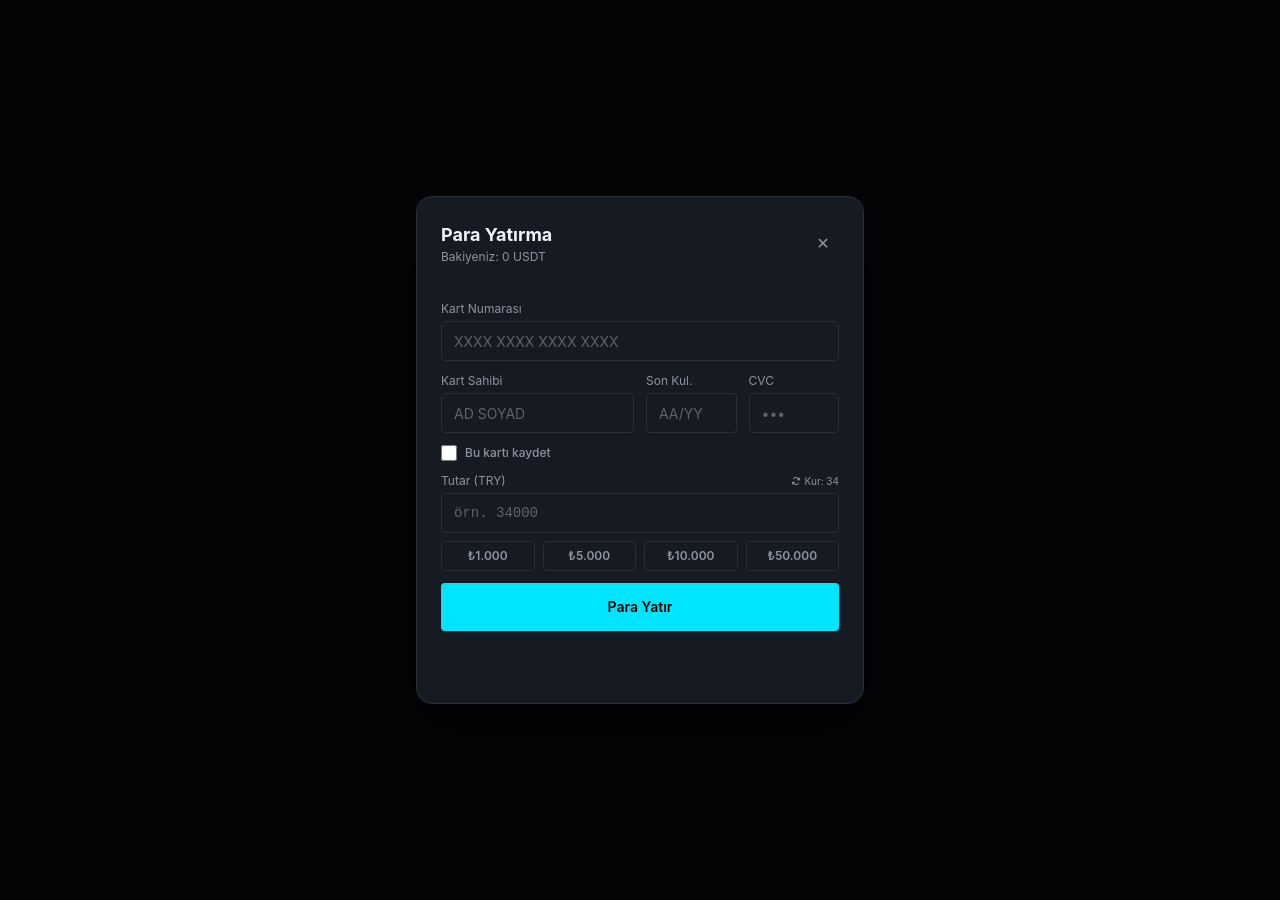
Test: DepositModal › honors preset TRY amounts
The width and height of the screenshot is (1280, 900).
Click the button "₺5.000" at {"x": 589, "y": 556}, box 542,541 -> 636,571
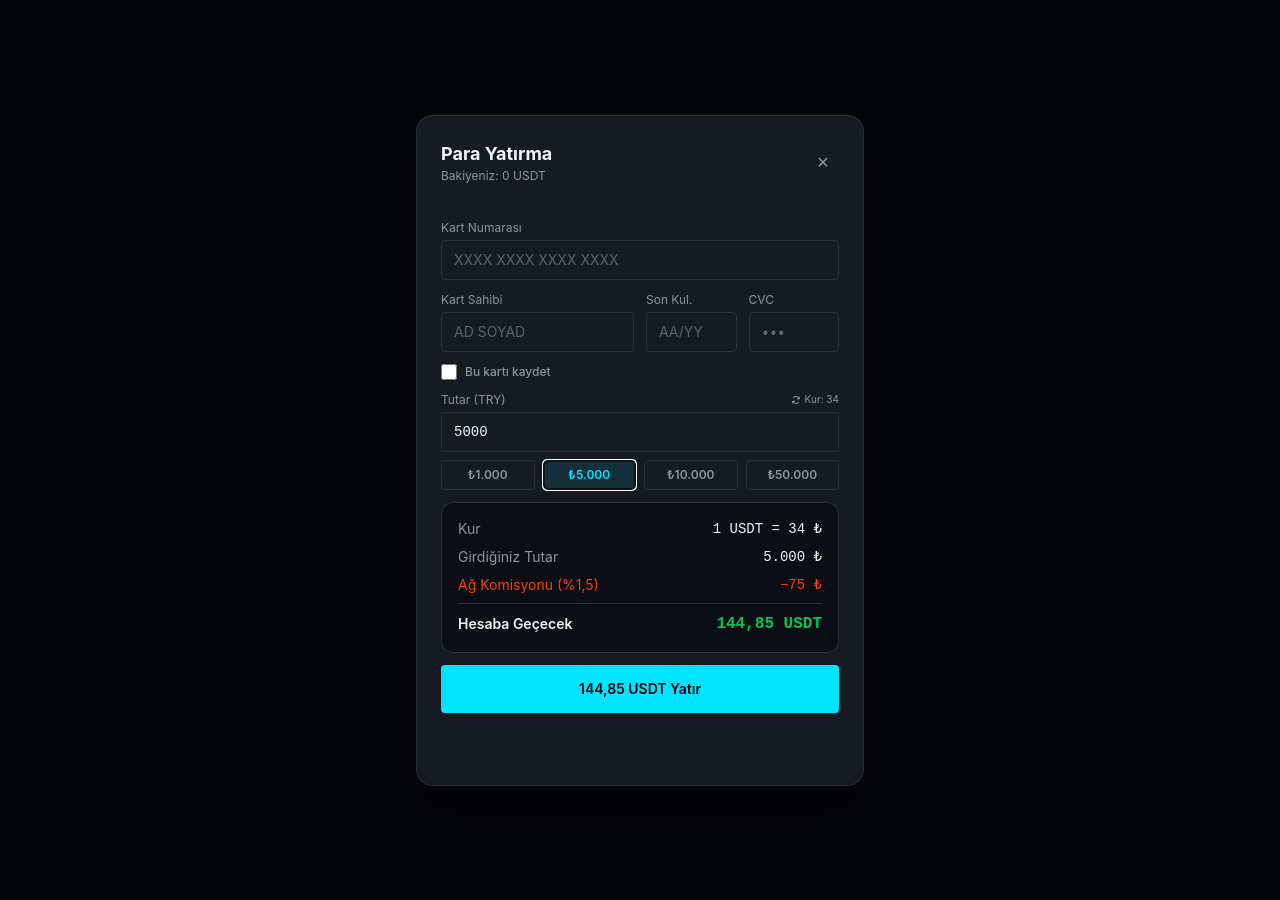
Type "4242424242424242" into the field with placeholder "XXXX XXXX XXXX XXXX" at {"x": 640, "y": 260}, box 441,240 -> 839,280
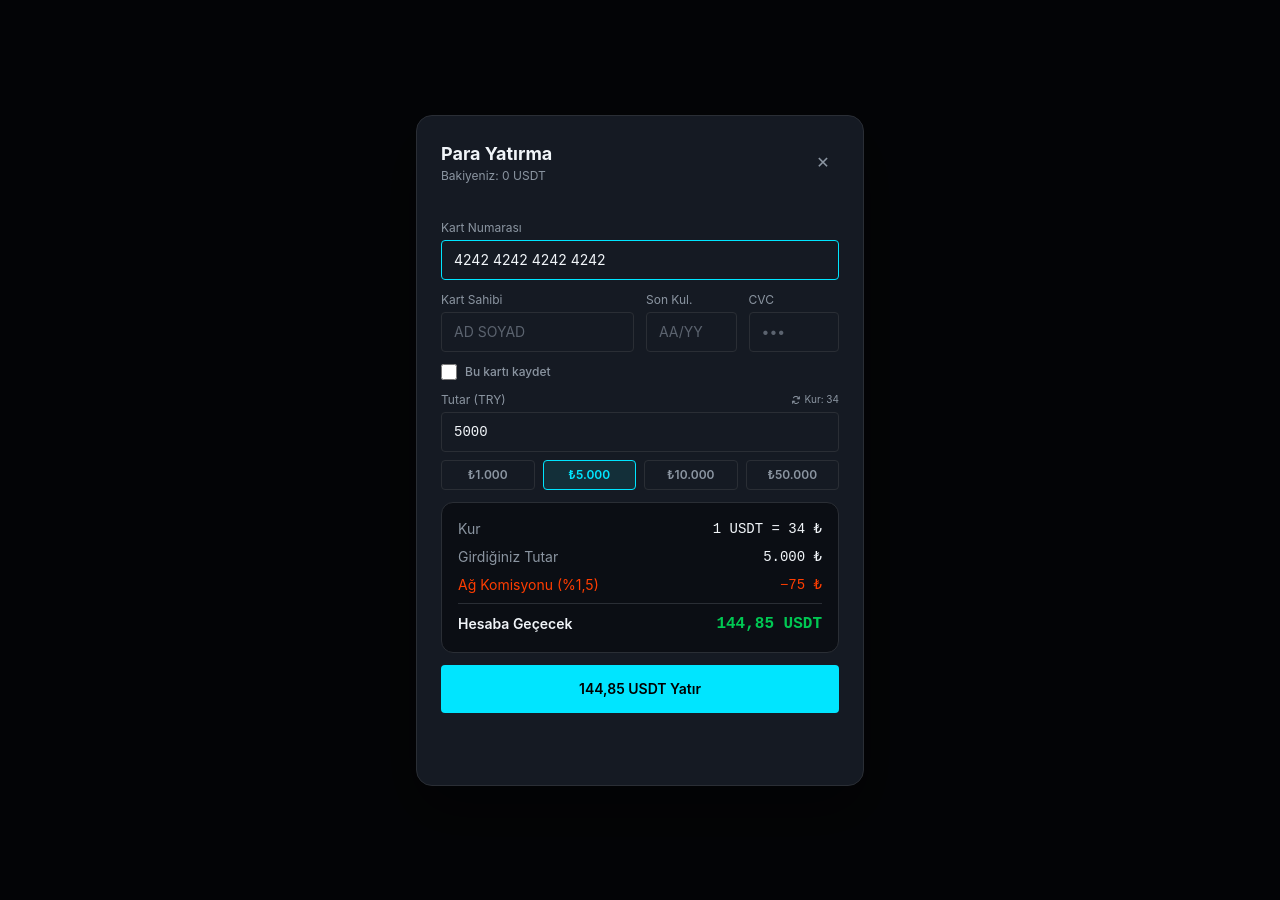
Type "DENIZ DEMO" into the field with placeholder "AD SOYAD" at {"x": 538, "y": 332}, box 441,312 -> 634,352
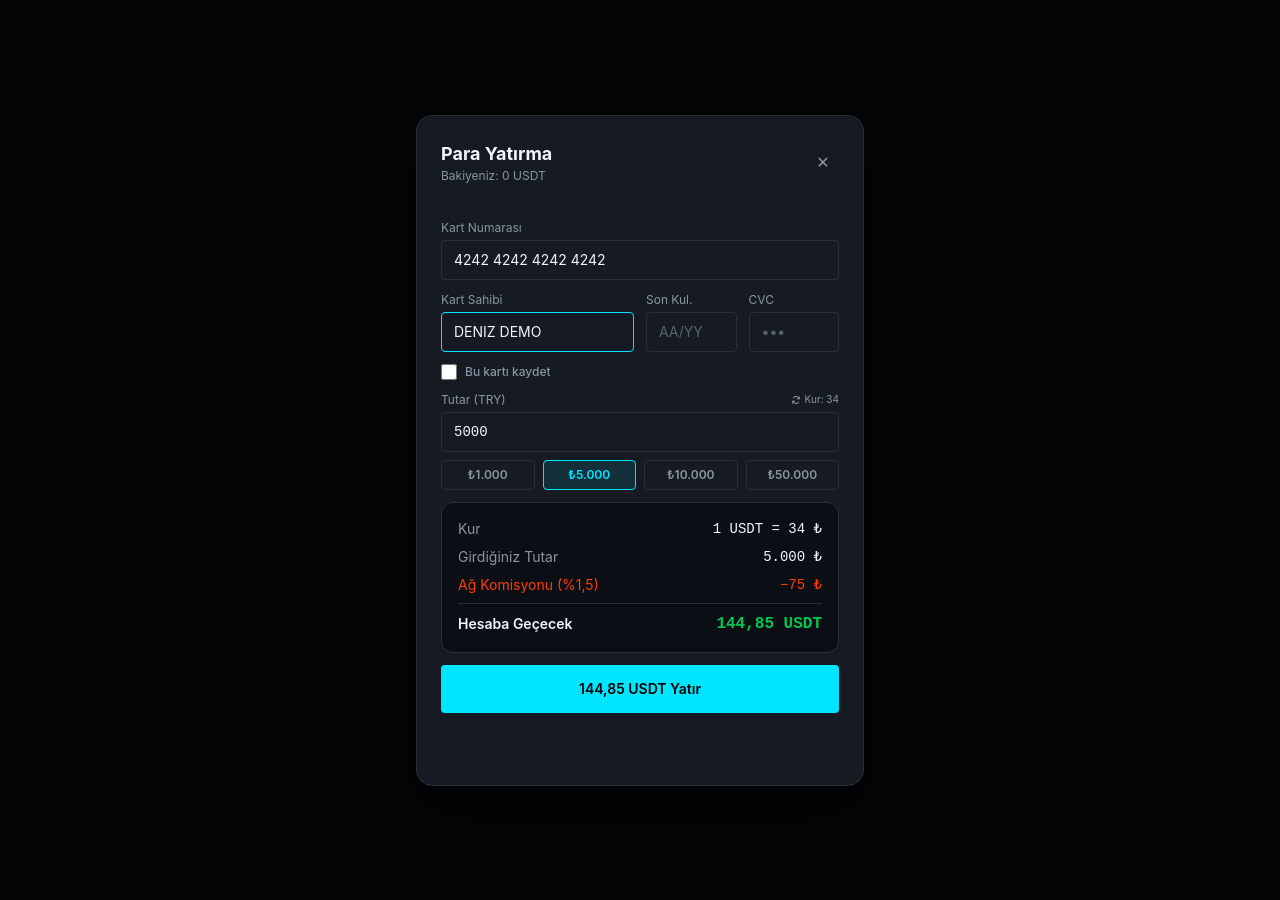
Type "12/29" into the field with placeholder "AA/YY" at {"x": 691, "y": 332}, box 646,312 -> 736,352
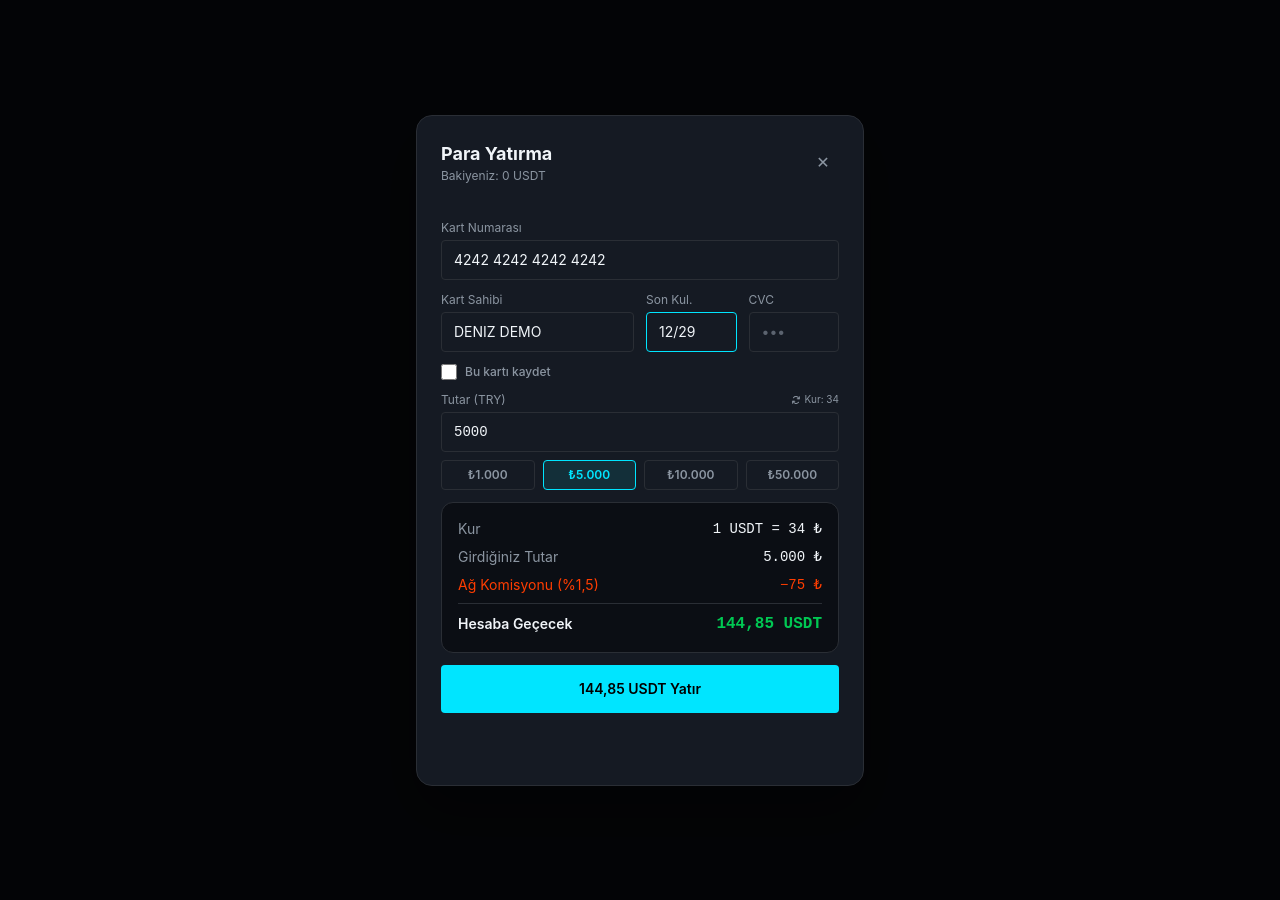
Type "123" into the field with placeholder "•••" at {"x": 794, "y": 332}, box 748,312 -> 839,352
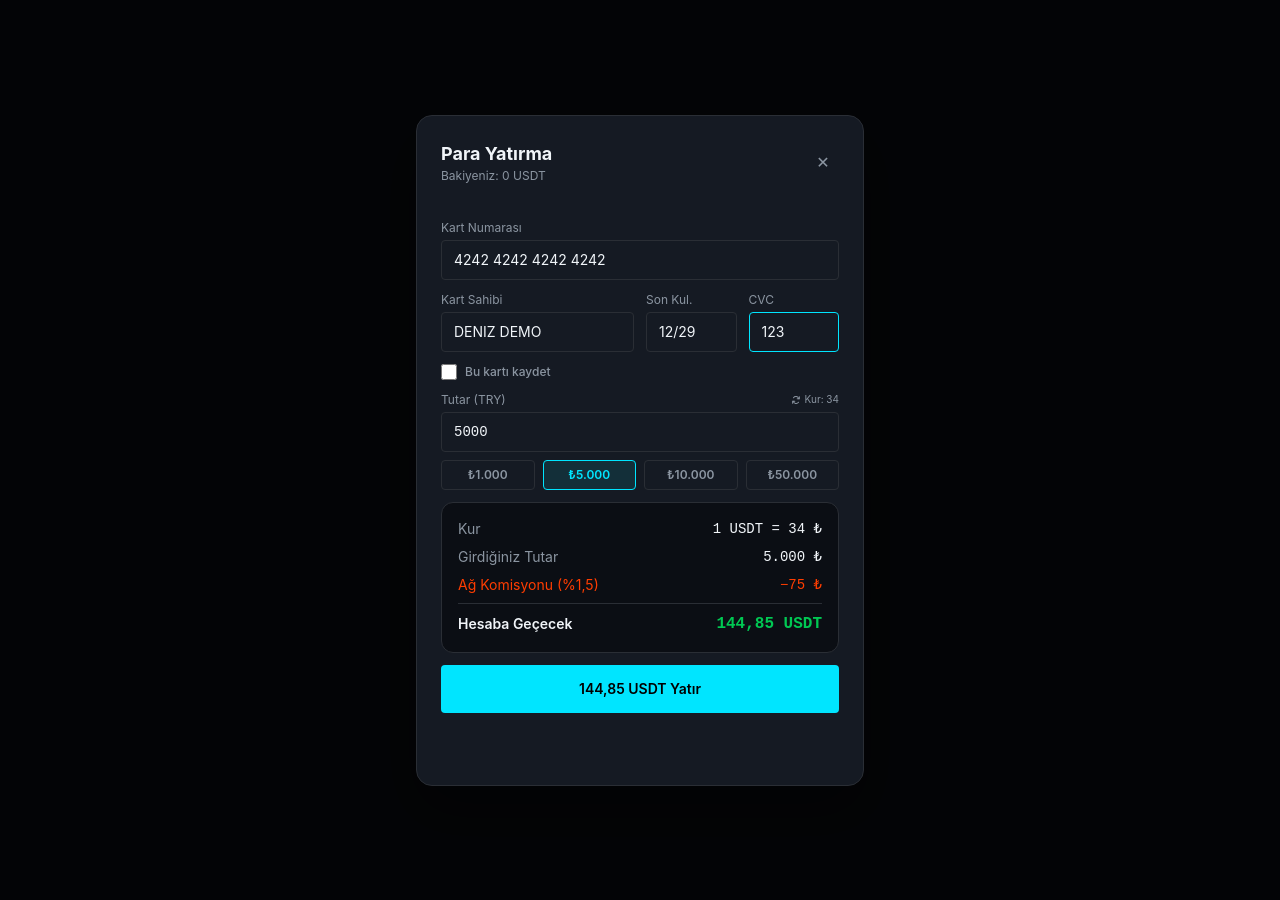
Click the button "144,85 USDT Yatır" at {"x": 640, "y": 688}, box 441,664 -> 839,712
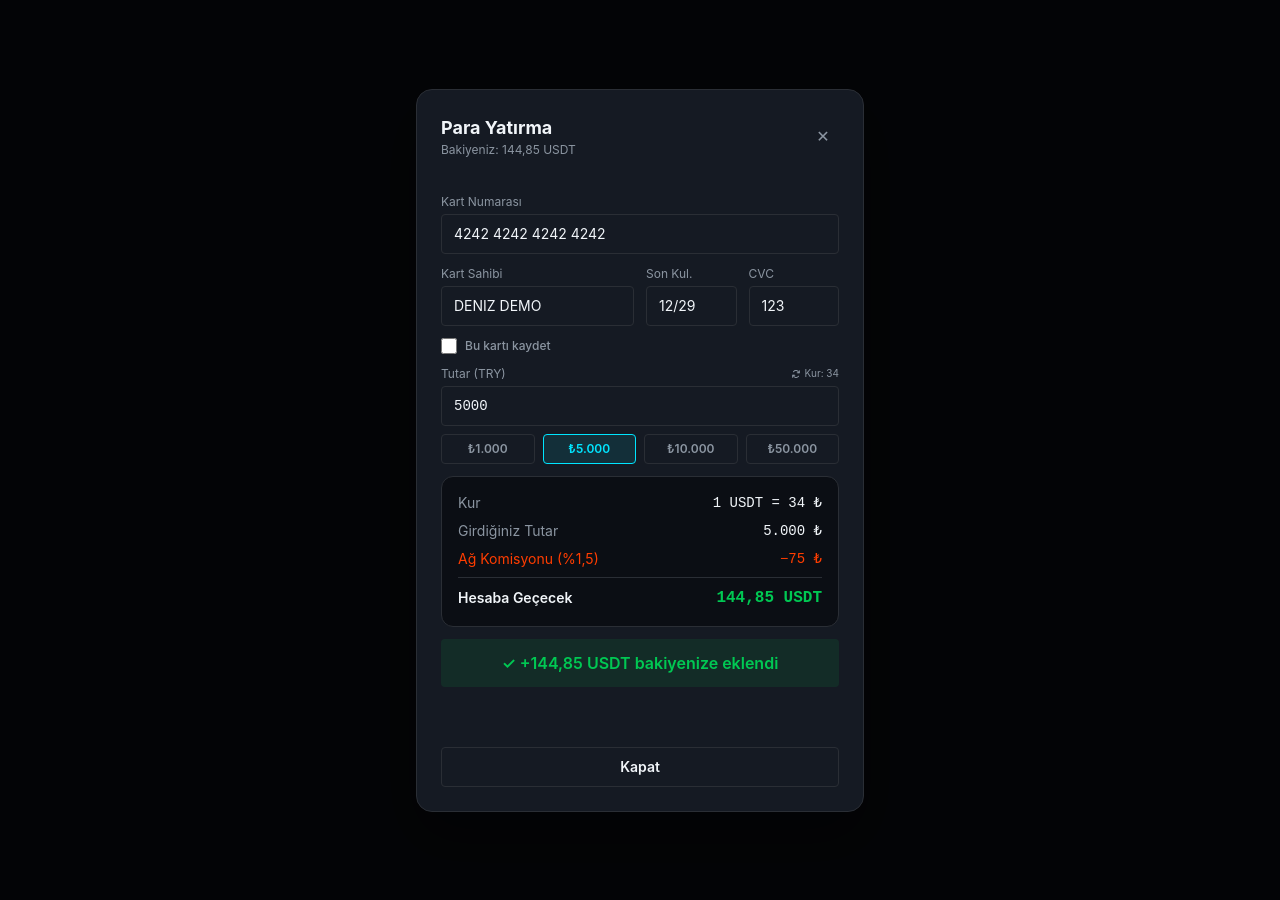
Check: the text "✓ +144,85 USDT bakiyenize eklendi" is shown, box 441,638 -> 839,686
